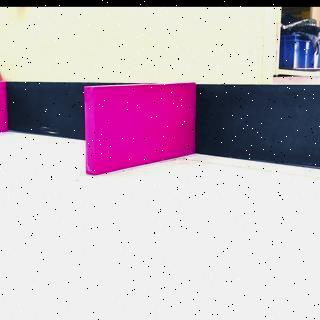xparking: (86, 86, 196, 164), (2, 84, 6, 132)
